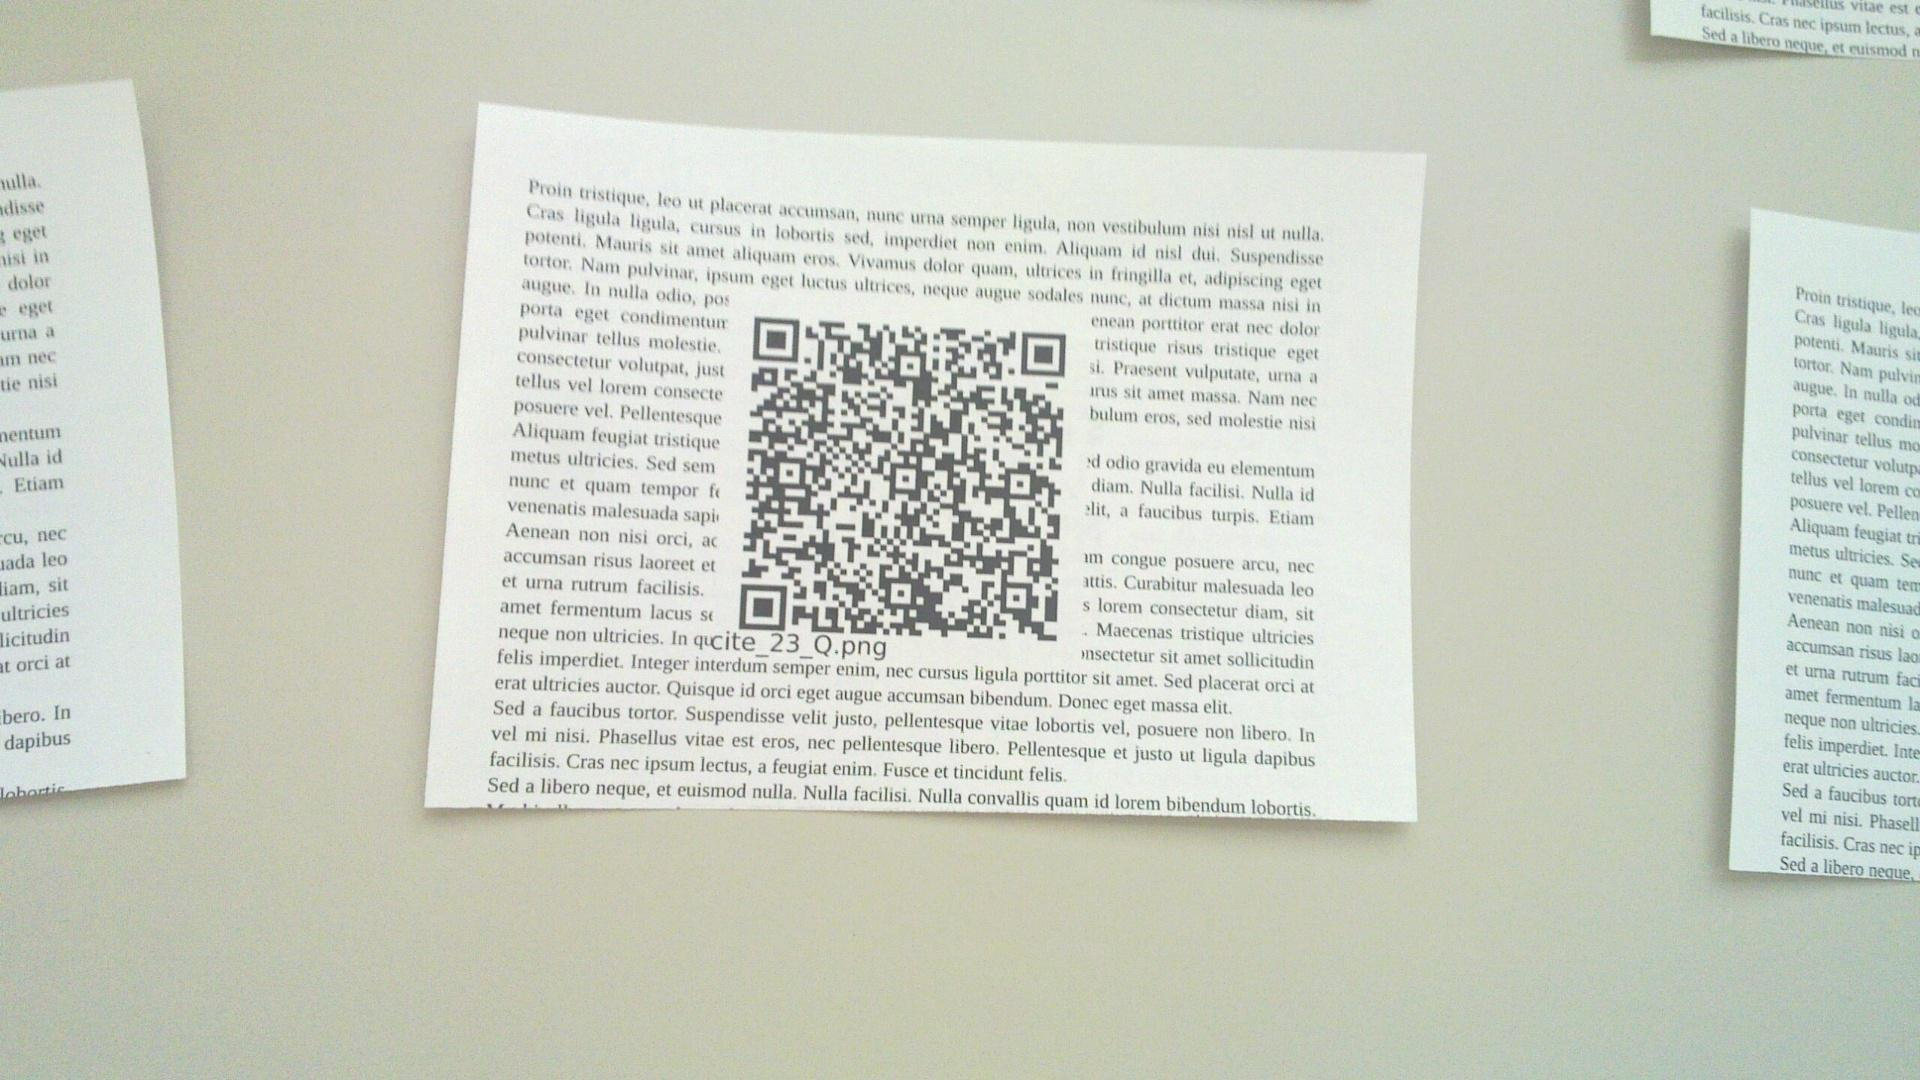Finder pattern: (737, 579, 790, 636), (749, 311, 803, 365), (1018, 327, 1069, 378)
